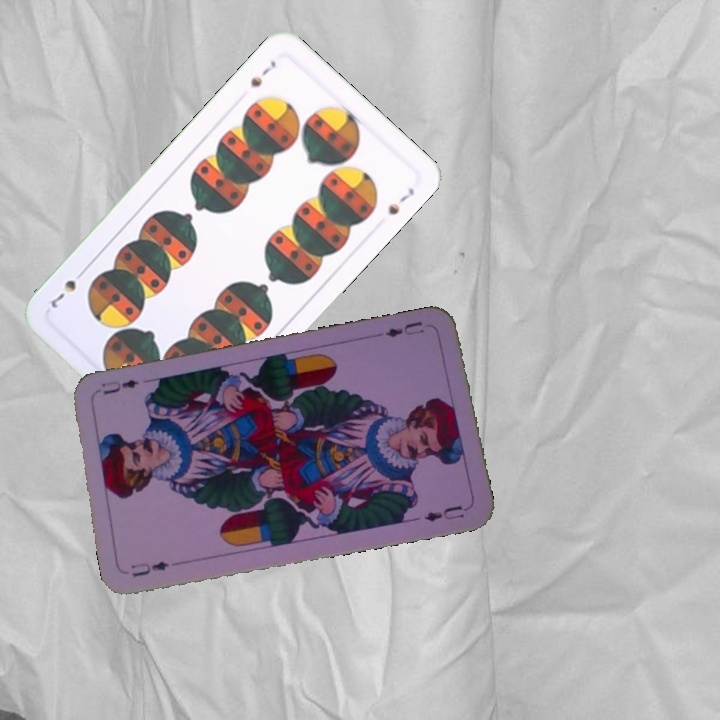EU: (381, 317, 427, 340), (127, 557, 172, 580)
S7: (246, 55, 279, 90)
